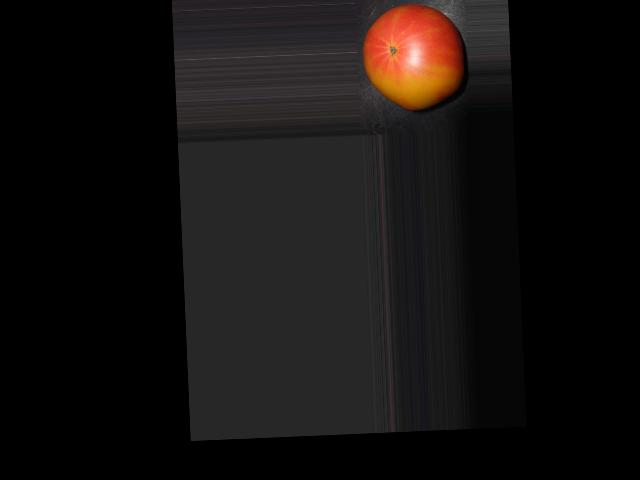tomato: (361, 2, 466, 111)
